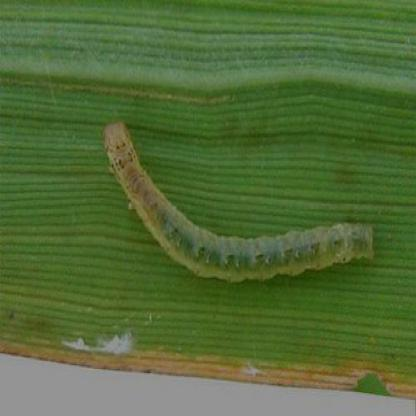leaf-folder: (98, 108, 381, 312)
